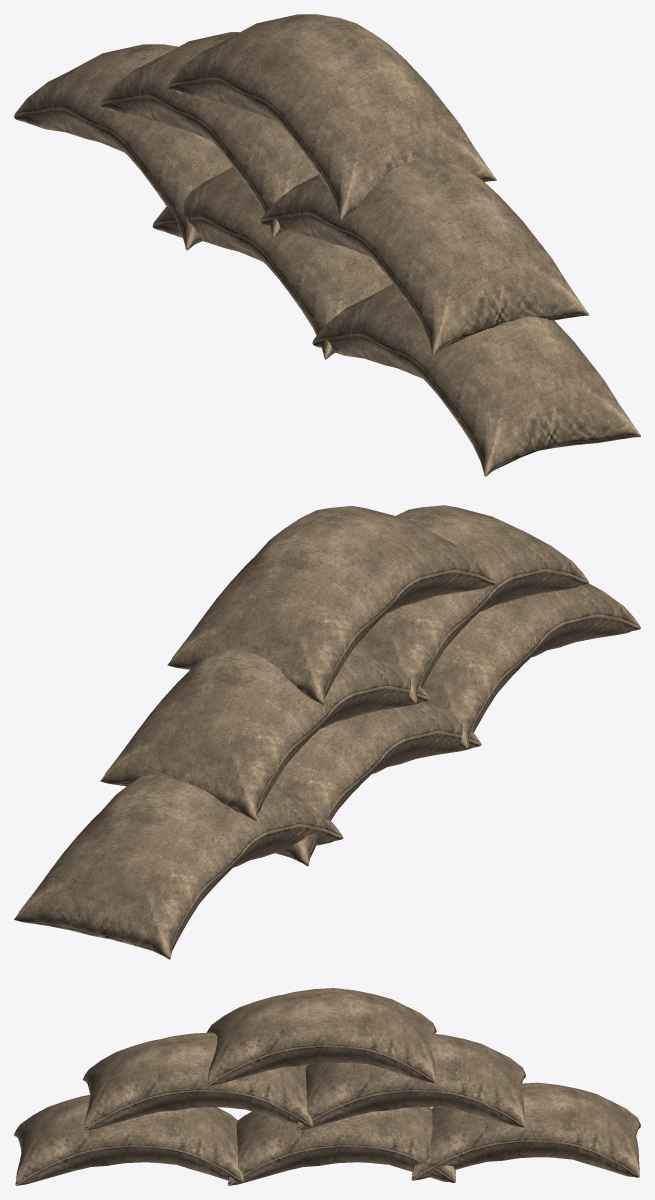
File: sand bags.fbx
3 renders of one model, top to bottom at view 1: azimuth 30°, elevation 25°; view 2: azimuth 150°, elevation 25°; view 3: azimuth 270°, elevation 25°, orthographic. The views are drawn at different scales.
Parts seen in each view (by area): view 1: Sand_bag_002_Sand_bag_002_0, Sand_bag_002_Sand_bag_002_0.001, Sand_bag_002_Sand_bag_002_0.003, Sand_bag_002_Sand_bag_002_0.005, Sand_bag_002_Sand_bag_002_0.004, Sand_bag_002_Sand_bag_002_0.002; view 2: Sand_bag_002_Sand_bag_002_0, Sand_bag_002_Sand_bag_002_0.005, Sand_bag_002_Sand_bag_002_0.002, Sand_bag_002_Sand_bag_002_0.001, Sand_bag_002_Sand_bag_002_0.003, Sand_bag_002_Sand_bag_002_0.004; view 3: Sand_bag_002_Sand_bag_002_0, Sand_bag_002_Sand_bag_002_0.005, Sand_bag_002_Sand_bag_002_0.001, Sand_bag_002_Sand_bag_002_0.003, Sand_bag_002_Sand_bag_002_0.002, Sand_bag_002_Sand_bag_002_0.004.
Part boxes in pixels (box(x1,y1,x2,y2)): Sand_bag_002_Sand_bag_002_0: box(168, 14, 496, 220); Sand_bag_002_Sand_bag_002_0.001: box(260, 156, 588, 355); Sand_bag_002_Sand_bag_002_0.003: box(312, 284, 640, 476); Sand_bag_002_Sand_bag_002_0.005: box(14, 44, 232, 250); Sand_bag_002_Sand_bag_002_0.004: box(152, 166, 392, 359); Sand_bag_002_Sand_bag_002_0.002: box(100, 32, 318, 238); Sand_bag_002_Sand_bag_002_0: box(167, 506, 496, 704); Sand_bag_002_Sand_bag_002_0.005: box(14, 773, 343, 959); Sand_bag_002_Sand_bag_002_0.002: box(100, 644, 429, 821); Sand_bag_002_Sand_bag_002_0.001: box(357, 505, 588, 704); Sand_bag_002_Sand_bag_002_0.003: box(422, 583, 640, 749); Sand_bag_002_Sand_bag_002_0.004: box(274, 700, 481, 866); Sand_bag_002_Sand_bag_002_0: box(207, 988, 436, 1085); Sand_bag_002_Sand_bag_002_0.005: box(411, 1082, 640, 1180); Sand_bag_002_Sand_bag_002_0.001: box(83, 1032, 312, 1130); Sand_bag_002_Sand_bag_002_0.003: box(14, 1095, 243, 1185); Sand_bag_002_Sand_bag_002_0.002: box(296, 1033, 525, 1130); Sand_bag_002_Sand_bag_002_0.004: box(227, 1107, 455, 1185).
Bounding box in the file's own units: 33.57 × 52.32 × 174.
Materials: 1 (1 with a texture image).
